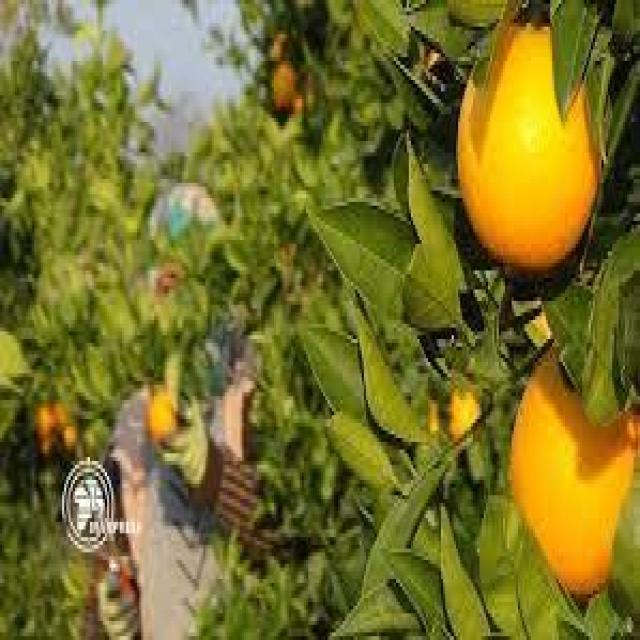fruit: (451, 24, 610, 278), (511, 331, 640, 594), (140, 385, 179, 445), (445, 378, 473, 444), (266, 68, 298, 116), (38, 407, 58, 450), (420, 48, 442, 77), (270, 31, 288, 64), (426, 398, 441, 436), (55, 405, 71, 433), (44, 403, 58, 428), (65, 421, 78, 447), (36, 428, 49, 453), (37, 403, 49, 428)
